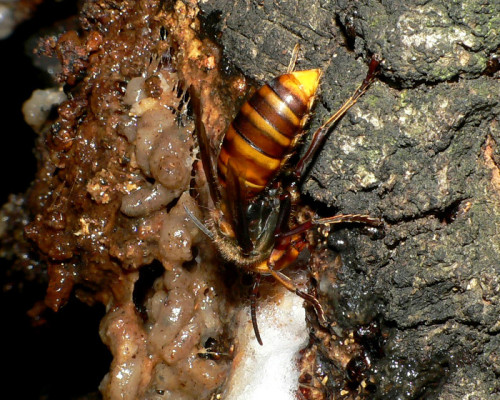asian_giant_hornet: (184, 61, 327, 296)
